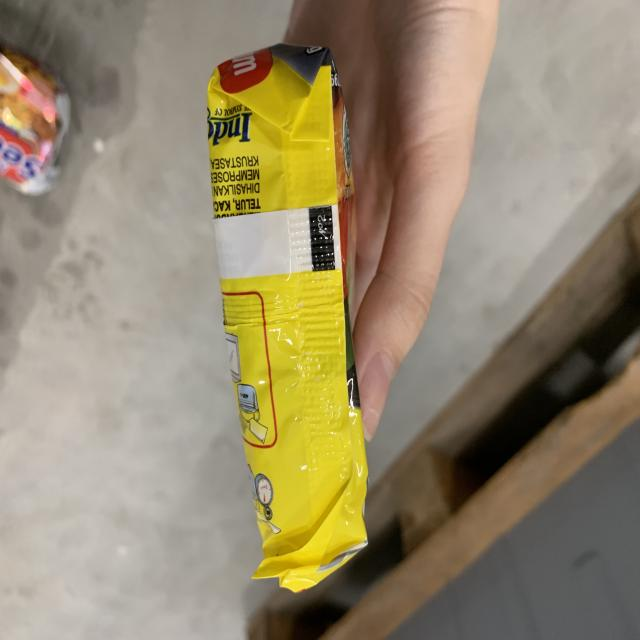object_name: (208, 49, 368, 563)
